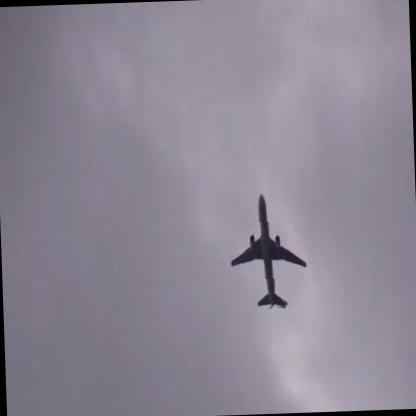plane: (225, 192, 309, 310)
